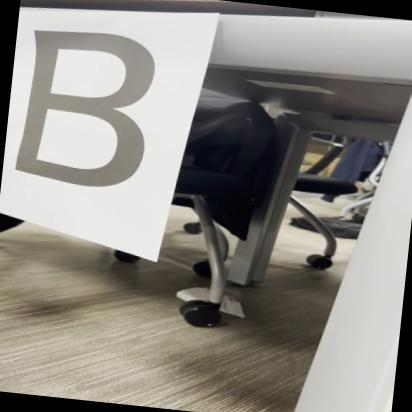seat: (6, 24, 182, 196)
